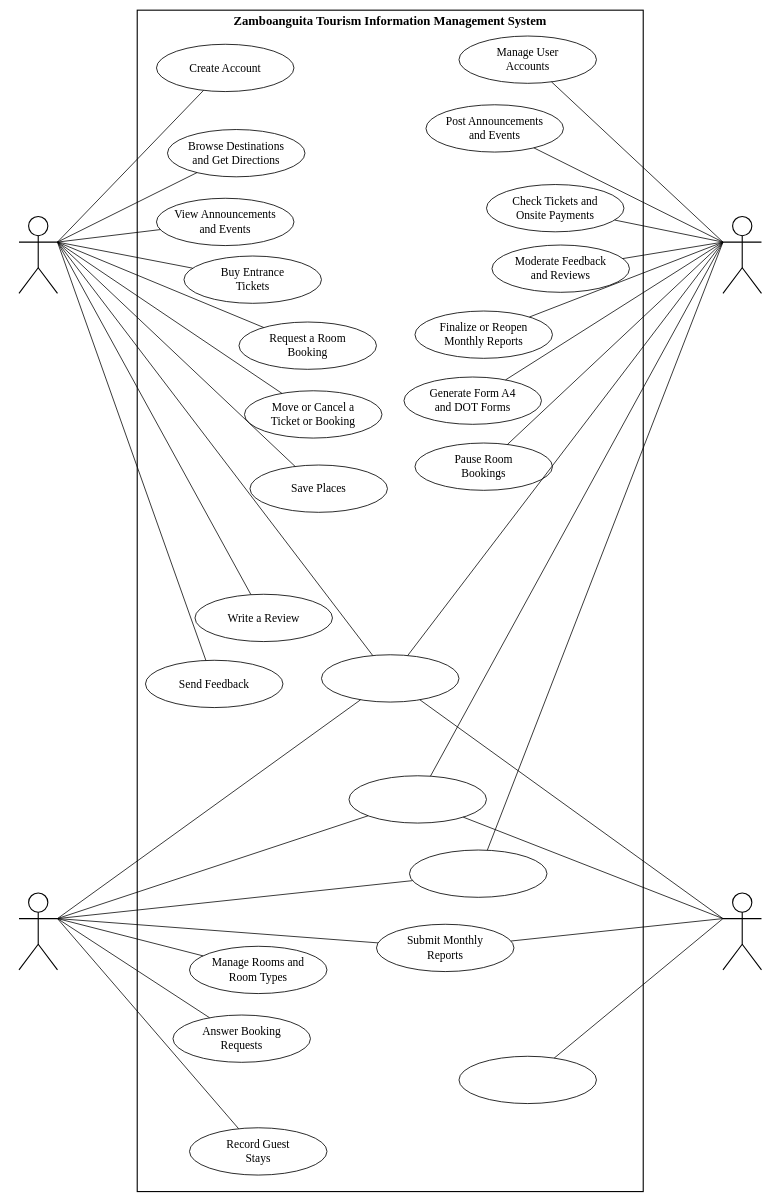
Some shapes in this 774 by 1201 pixel diagram are drawn without their labels. The centre of each missing label's shape, as x and y in pixels:
Enterprise Manager: the point at 38,931
Log In: the point at 390,678
Manage Destination Listings: the point at 417,799
Record Daily Visitor Counts: the point at 527,1080
Support Staff: the point at 742,931
Tourism Officer: the point at 742,255
Tourist: the point at 38,255
View Dashboards and Analytics: the point at 478,873
